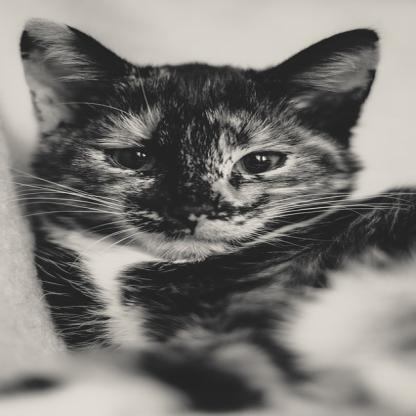cat: (22, 13, 415, 348)
